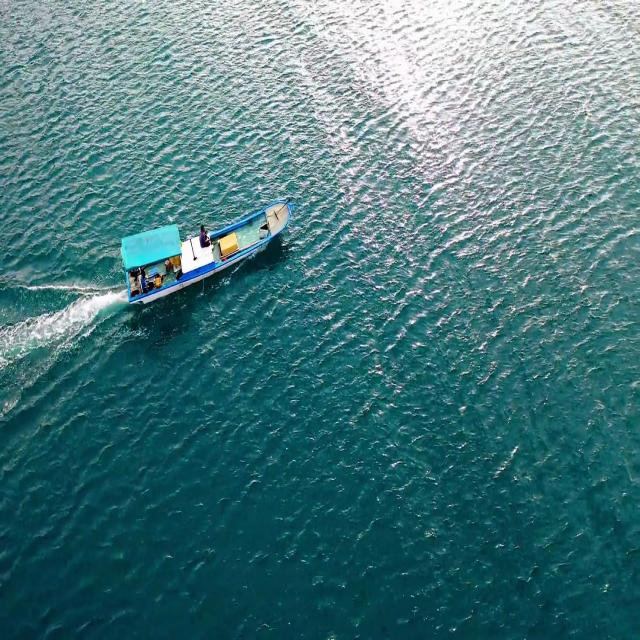ship: (113, 182, 300, 317)
